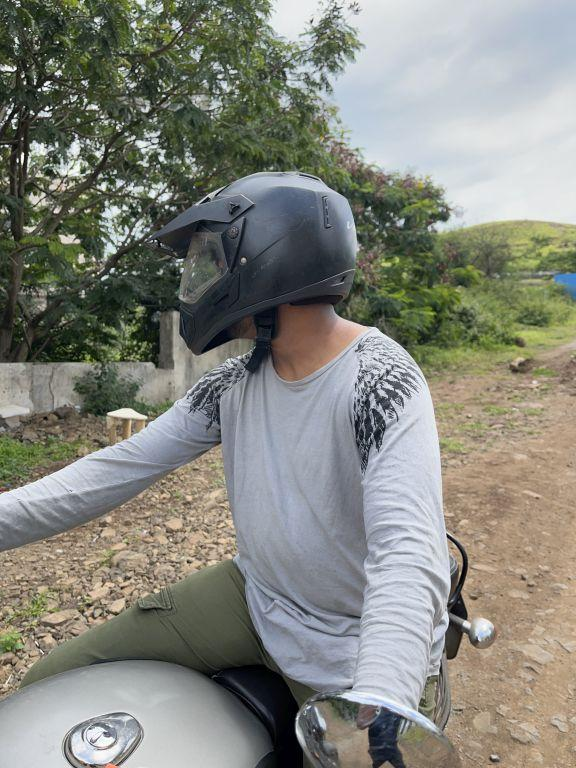helmet: (147, 159, 365, 367)
